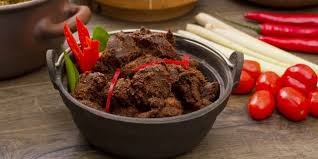rendang: (67, 22, 231, 129)
